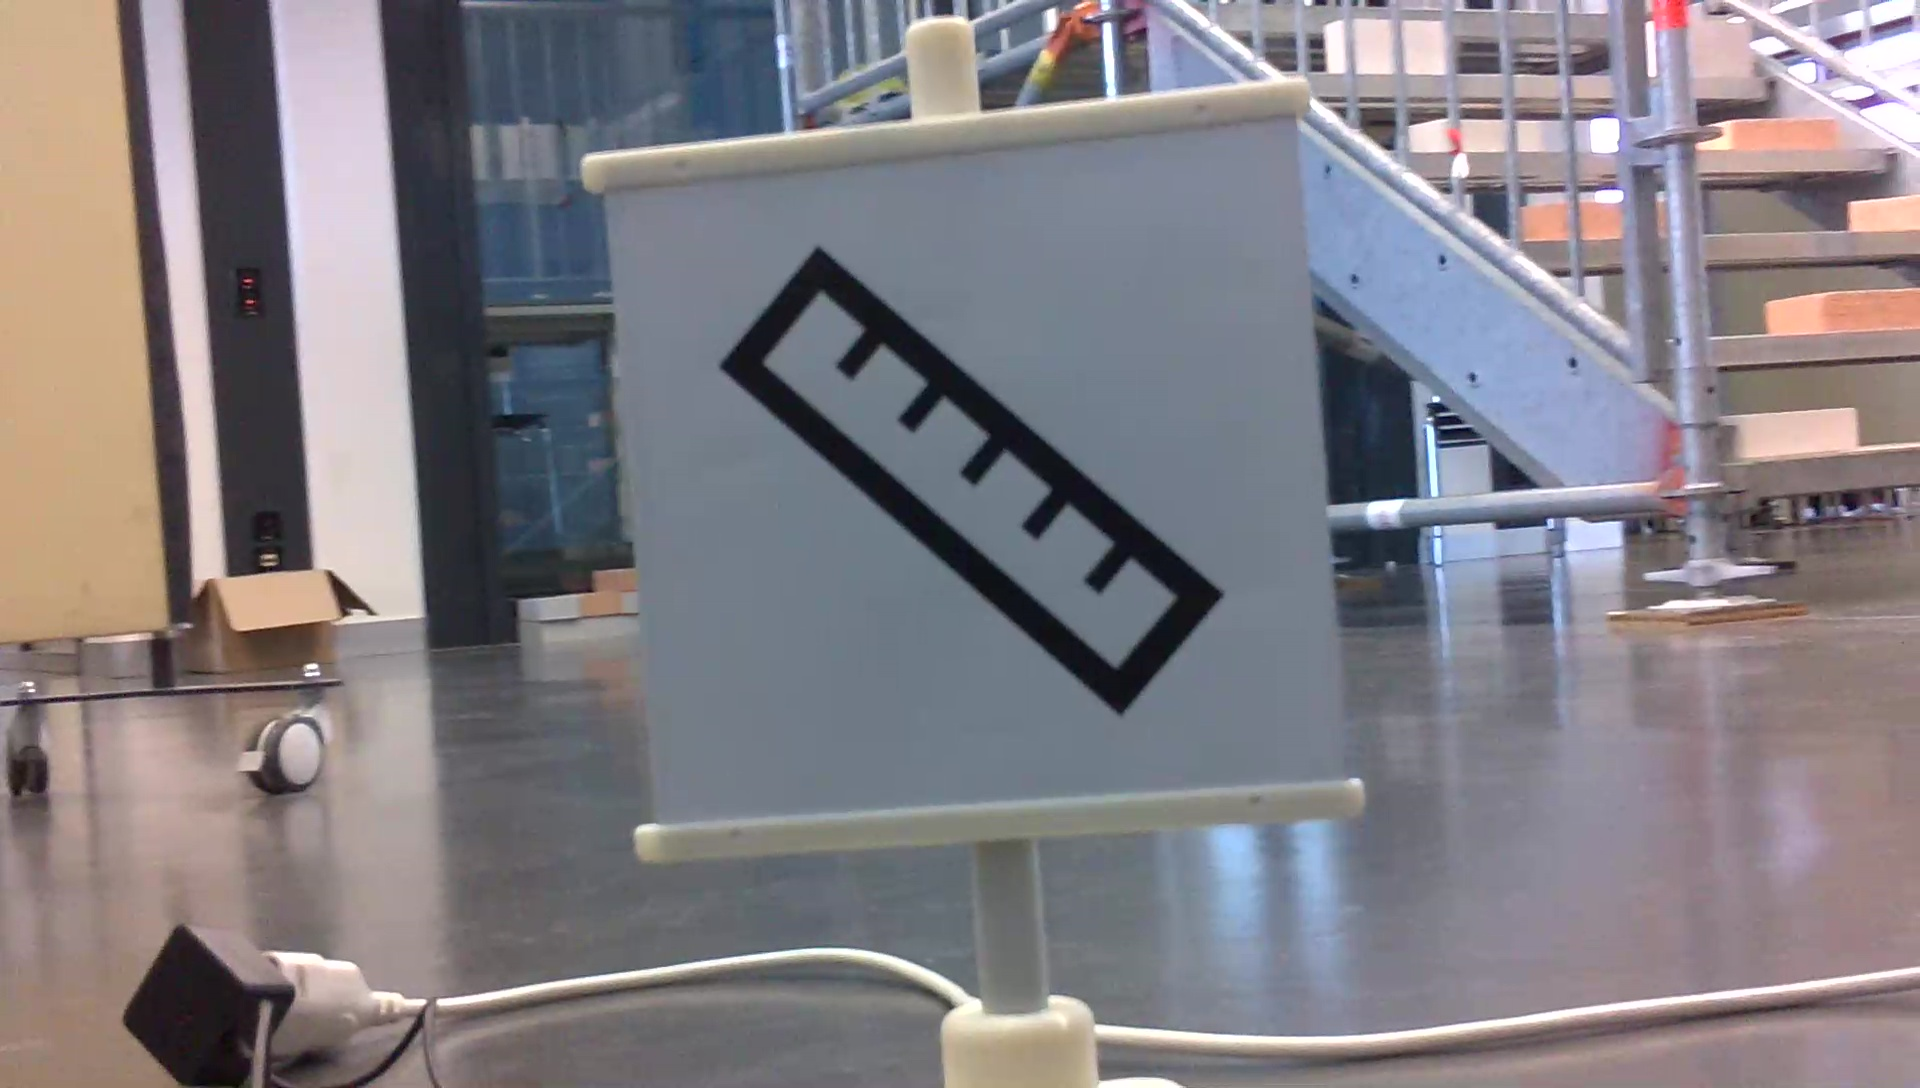brick: (1706, 411, 1870, 460), (1768, 284, 1920, 335), (1706, 109, 1838, 156), (1681, 15, 1750, 84), (1857, 195, 1920, 229)
ruler: (712, 236, 1238, 713)
